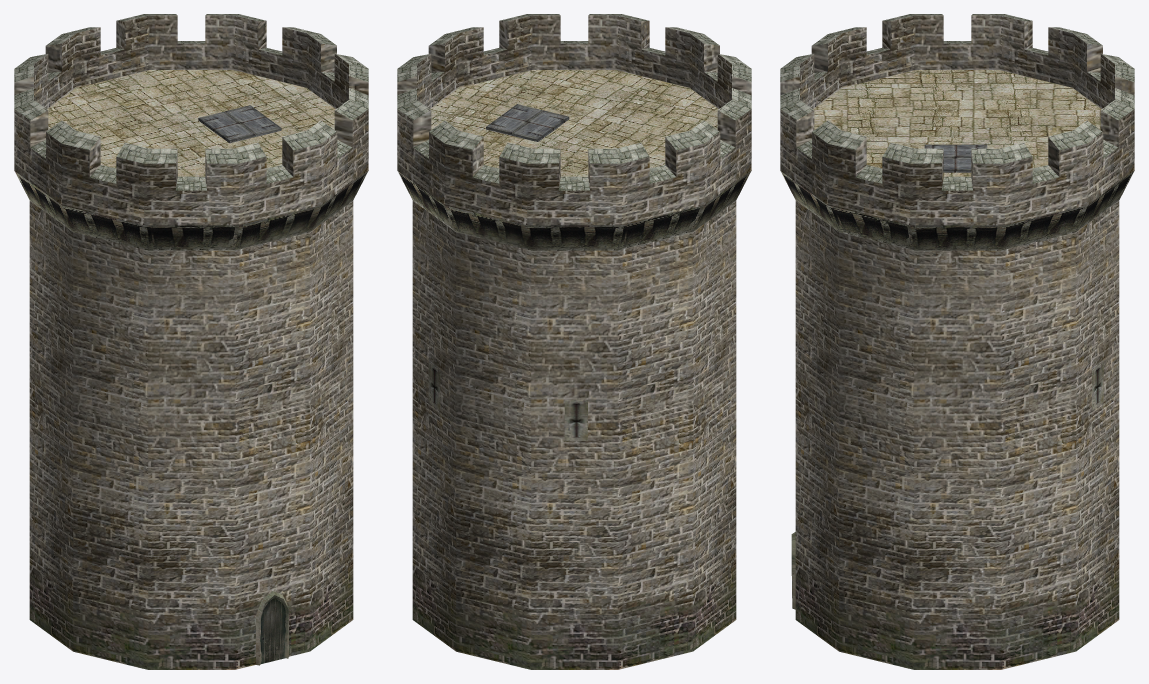
Rendered from building_tower_round_tall.glb.
3 renders of one model, left to right at view 1: azimuth 30°, elevation 25°; view 2: azimuth 150°, elevation 25°; view 3: azimuth 270°, elevation 25°, orthographic.
Visible parts, largest first — view 1: building_tower_round_tall; view 2: building_tower_round_tall; view 3: building_tower_round_tall.
Part boxes in pixels (bbox=[...]): building_tower_round_tall: bbox=[14, 14, 368, 669]; building_tower_round_tall: bbox=[397, 14, 751, 669]; building_tower_round_tall: bbox=[780, 14, 1134, 669].
Bounding box in the file's own units: 11.22 × 18.16 × 11.22.
4 materials, 4 textured.
